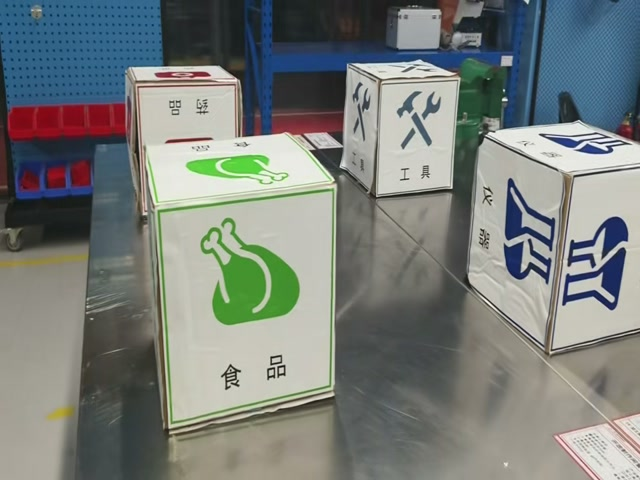Cube_food: (142, 137, 341, 216)
Cube_ins: (483, 123, 640, 181)
Cube_medicine: (128, 65, 244, 88)
Cube_tool: (351, 60, 460, 86)
